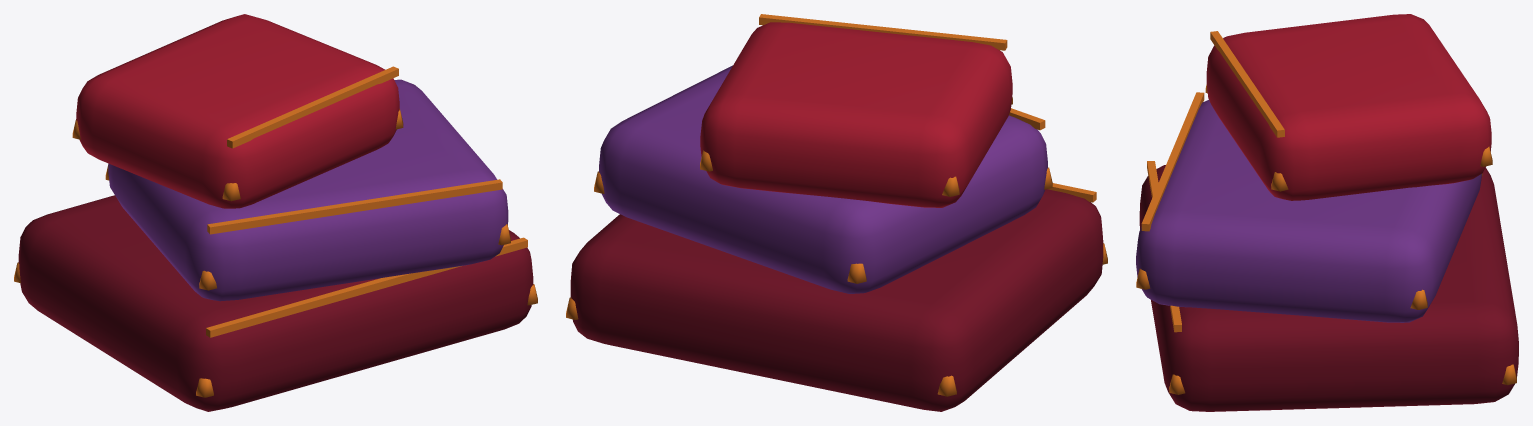
File: cushions.glb
3 renders of one model, left to right at view 1: azimuth 30°, elevation 25°; view 2: azimuth 150°, elevation 25°; view 3: azimuth 270°, elevation 25°, orthographic. The views are drawn at different scales.
Parts seen in each view (by area): view 1: cushions; view 2: cushions; view 3: cushions.
Boxes of the visible parts, box(x1,y1,x2,y2) form: cushions: box(14, 14, 537, 411); cushions: box(566, 14, 1107, 411); cushions: box(1136, 14, 1518, 411).
Bounding box in the file's own units: 0.6666 × 0.42 × 0.5794.
